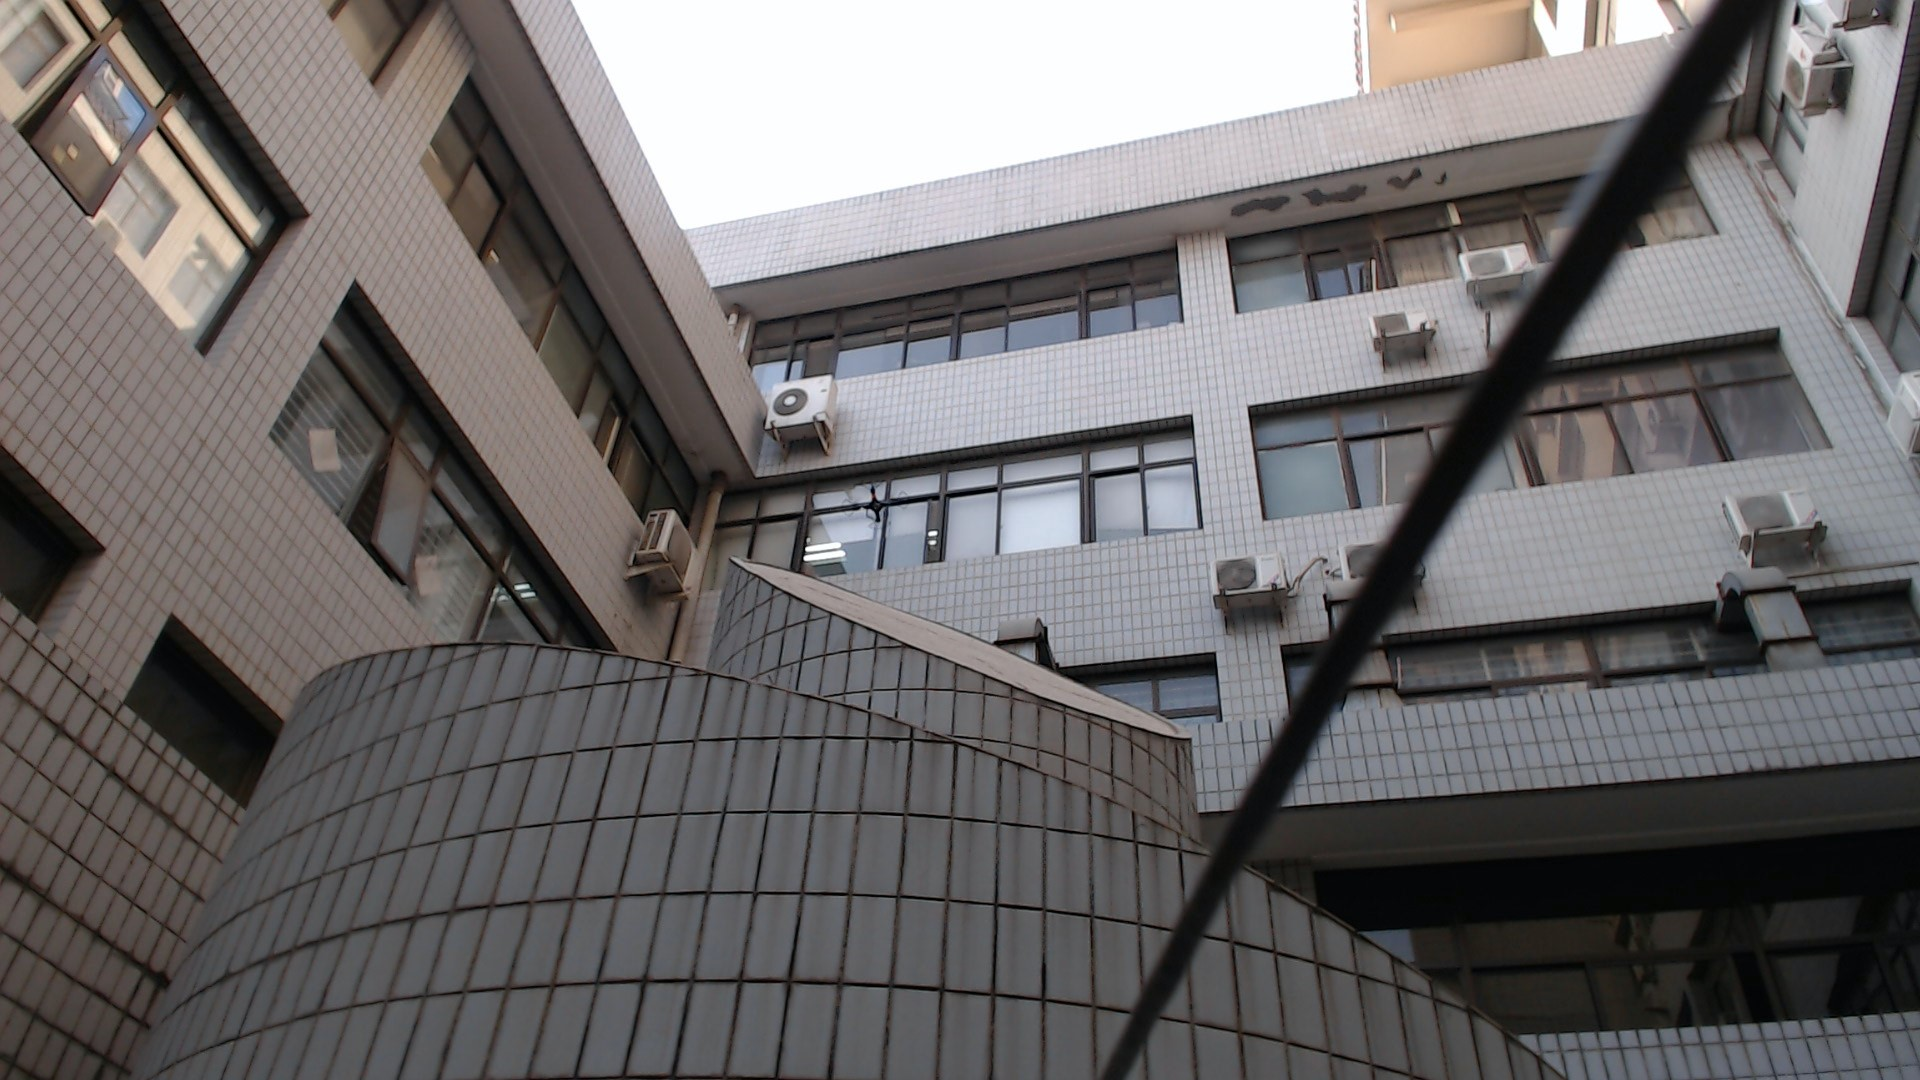drone: (836, 473, 923, 537)
